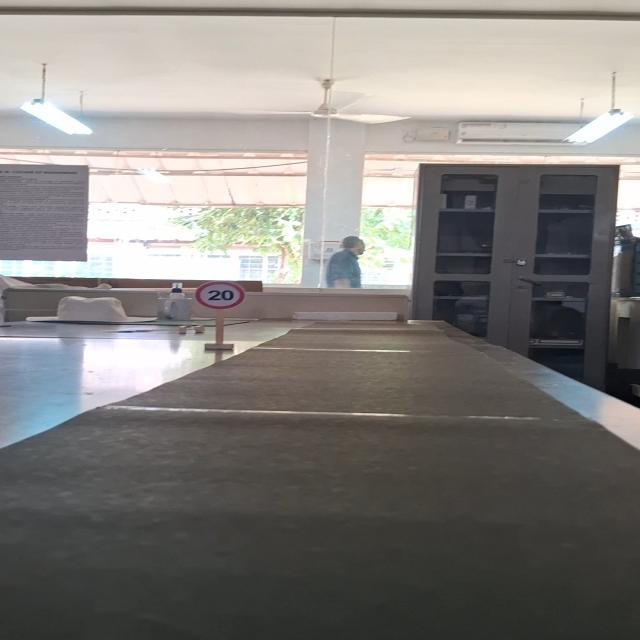Speed20: (189, 279, 249, 310)
